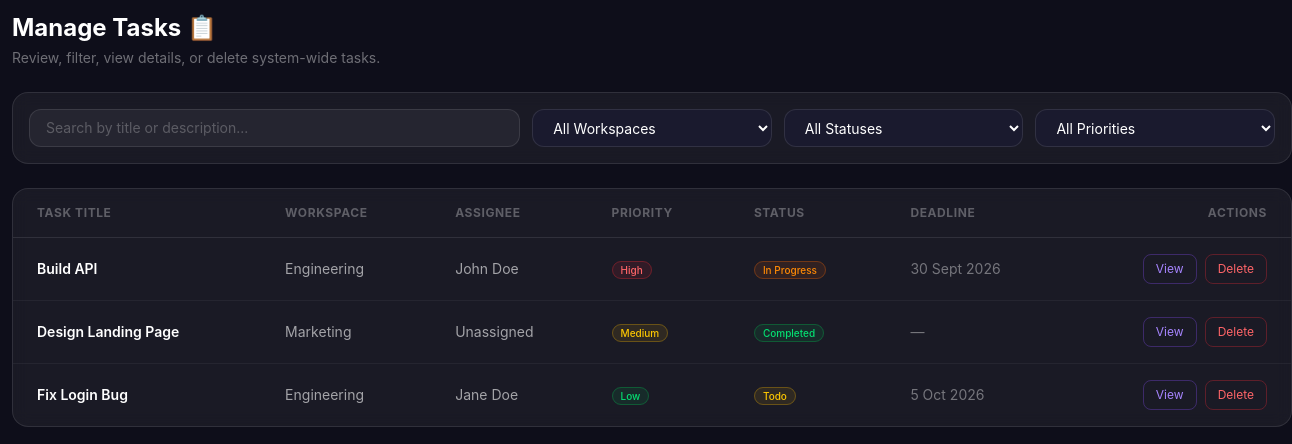
ManageTasks › filters tasks by workspace
The image size is (1292, 444).
Expected: the text "Build API" is shown, [13,238,261,300]
Select "Engineering" in the 1st dropdown at (652, 128), box [532,109,772,147]
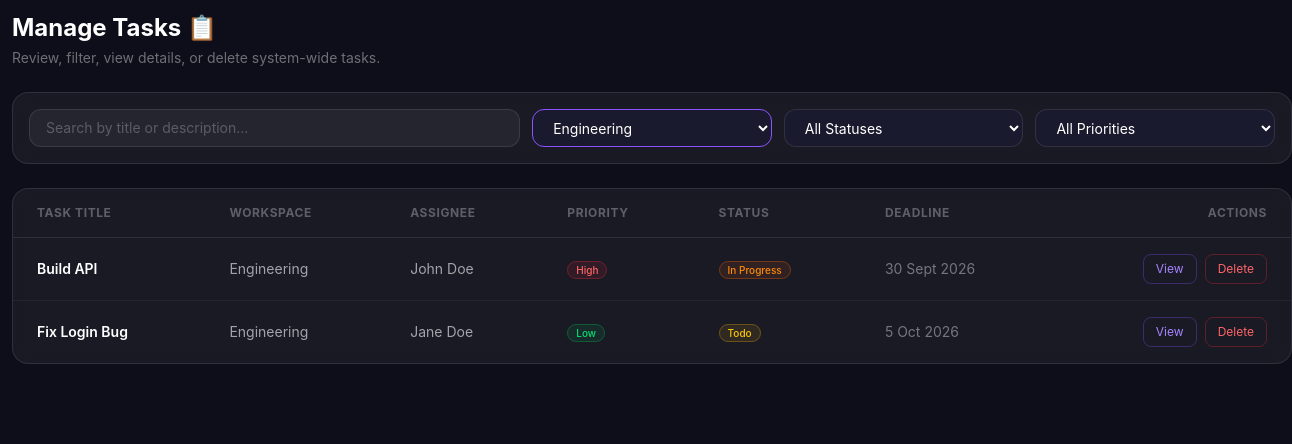
Expected: the text "Build API" is shown, [13,238,205,300]
Now the text "Design Landing Page" is gone
